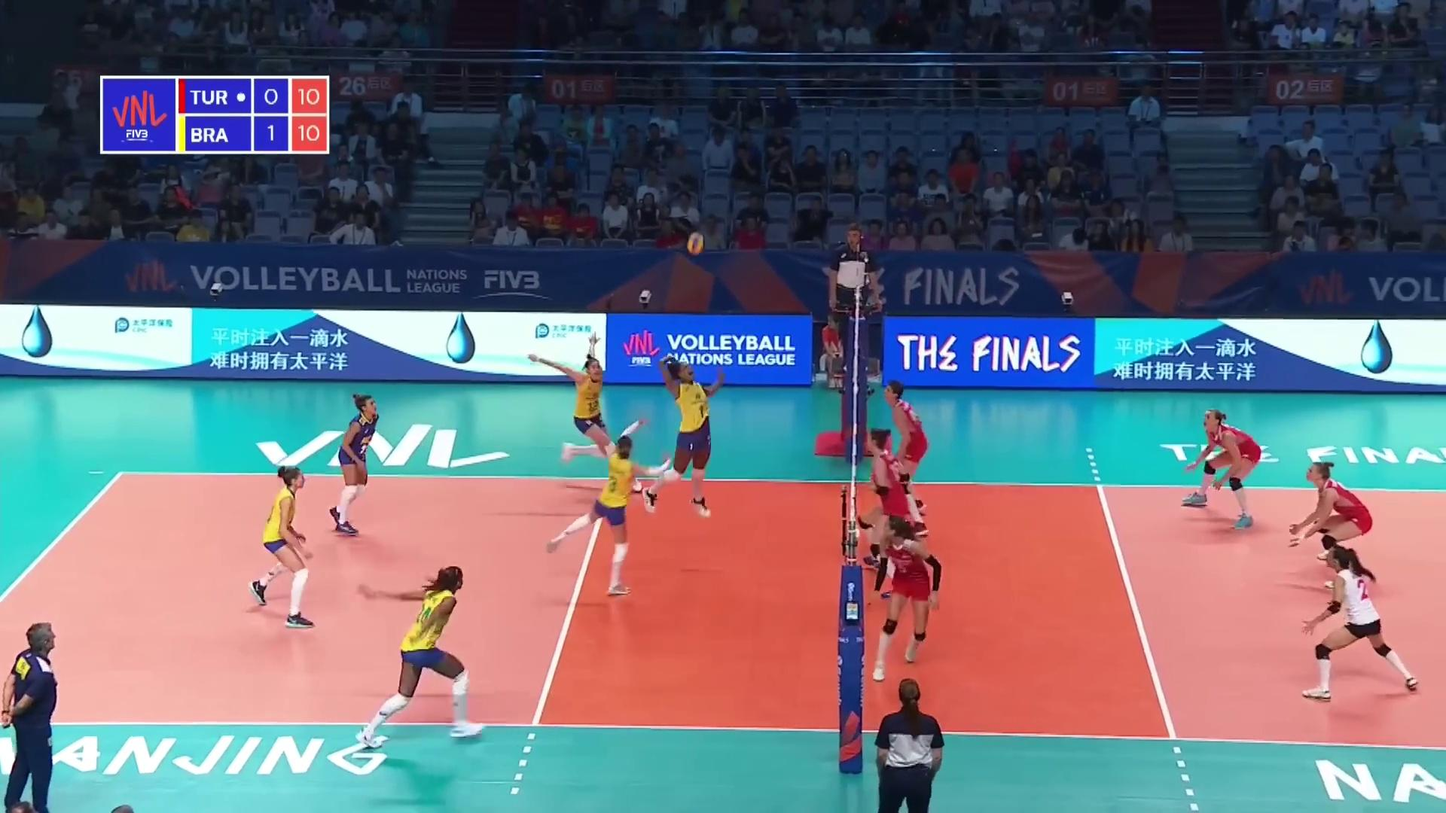player: (356, 565, 492, 744), (548, 432, 671, 597), (528, 332, 642, 487), (1301, 546, 1415, 700), (641, 355, 721, 516), (869, 517, 943, 681), (1288, 461, 1371, 587), (1179, 405, 1261, 530), (249, 465, 311, 627), (325, 394, 382, 535), (865, 428, 912, 597), (880, 381, 931, 535)
refree: (876, 679, 944, 813), (828, 226, 880, 365)
